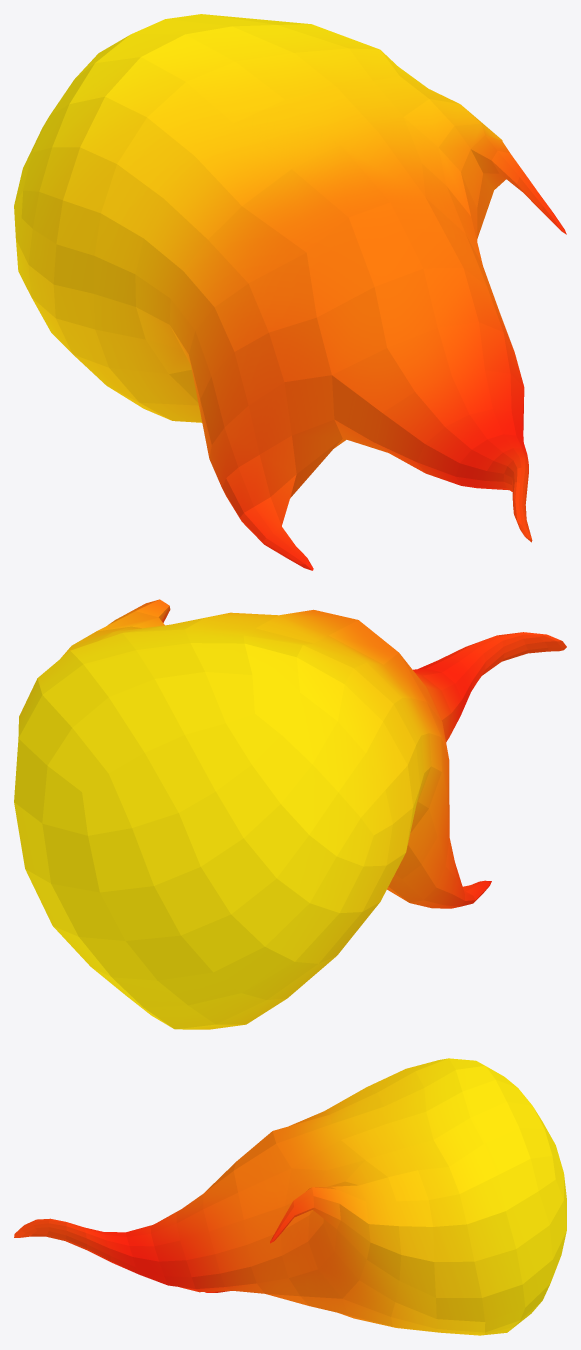
The model's file is Fire.glb.
3 views of the same model, one above another, from view 1: azimuth 30°, elevation 25°; view 2: azimuth 150°, elevation 25°; view 3: azimuth 270°, elevation 25° (orthographic). The views are drawn at different scales.
Visible parts, largest first — view 1: 0; view 2: 0; view 3: 0.
Part boxes in pixels (left/top/right/bottom): 0: left=14, top=14, right=566, bottom=570; 0: left=14, top=599, right=566, bottom=1029; 0: left=14, top=1058, right=566, bottom=1335.
Size of the model in its own units: 2.79 by 2.63 by 5.11.
Materials: 1 (1 with a texture image).
